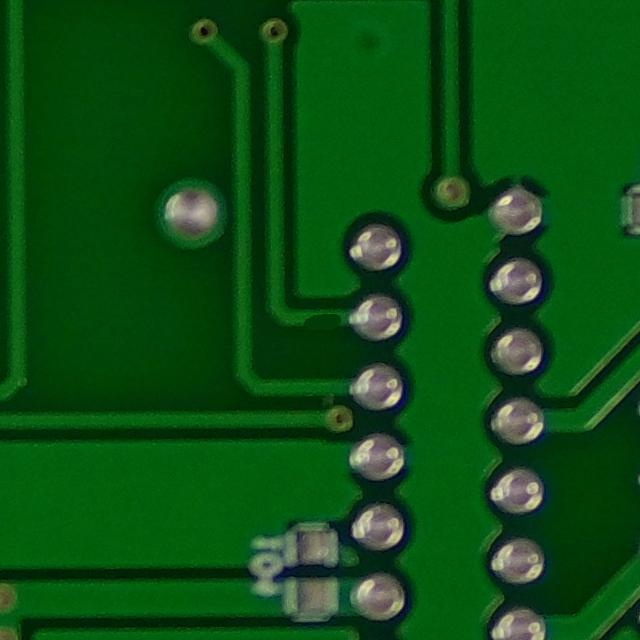mouse_bite: (288, 298, 352, 342)
